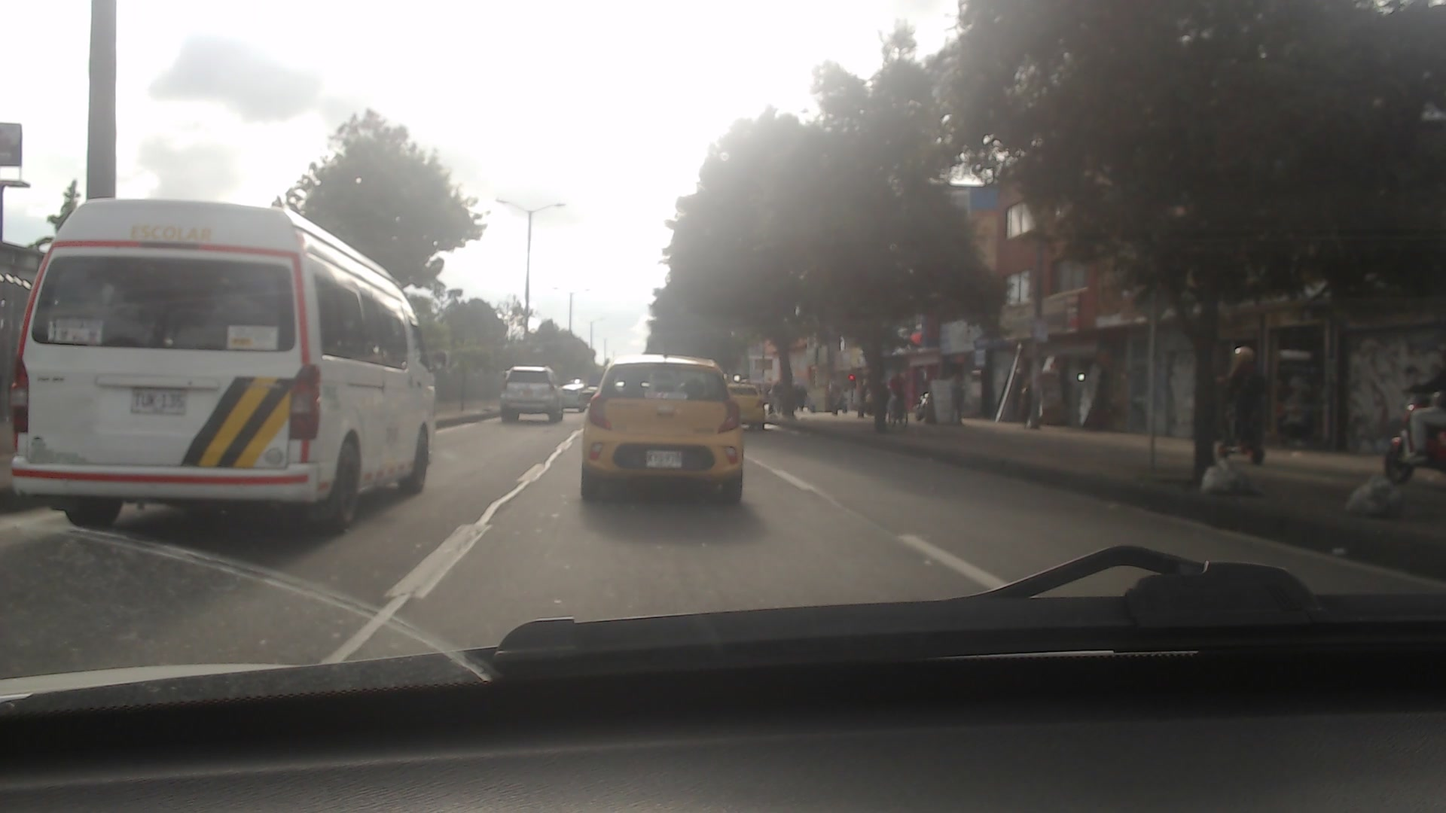bus: (12, 196, 452, 527)
car: (581, 353, 750, 494), (492, 366, 566, 423), (719, 380, 770, 429)
person: (1207, 342, 1271, 465)
